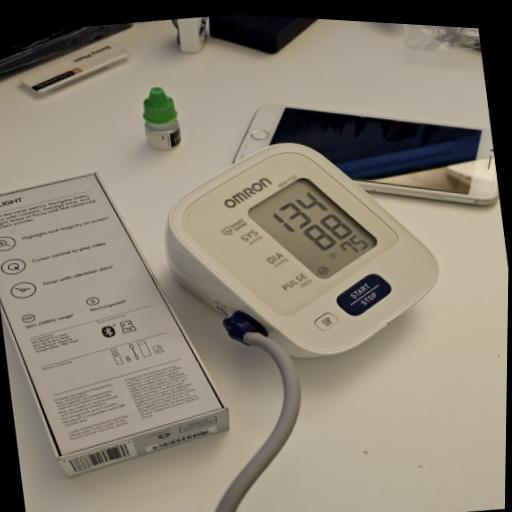blood pressure monitor: (150, 114, 456, 385)
